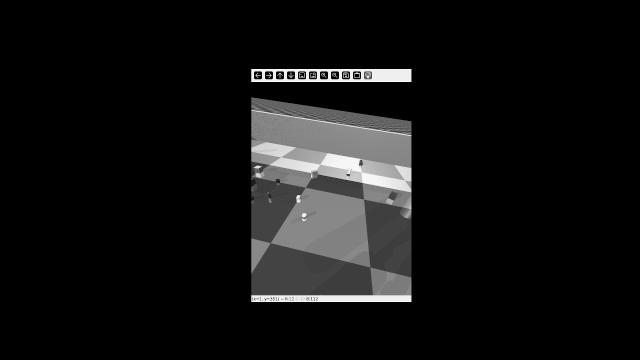cilindro: (266, 190, 274, 201), (345, 167, 353, 176), (358, 159, 365, 167), (274, 177, 281, 184)
cuadrado: (387, 188, 399, 200), (254, 163, 266, 175), (249, 176, 257, 188), (296, 194, 302, 203)
esfera: (301, 212, 309, 218), (251, 193, 256, 201)
rectangulo: (306, 170, 322, 178)
